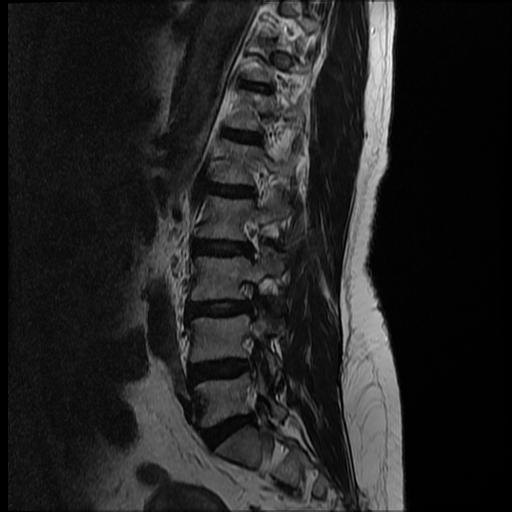LFS0: (230, 212, 273, 272)
LFS2: (224, 277, 271, 327)
